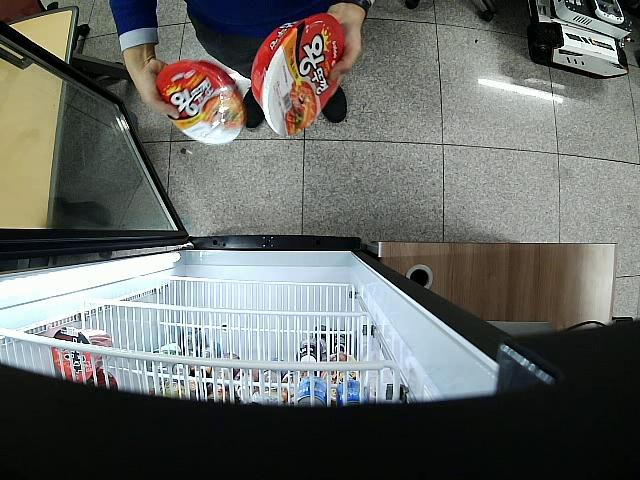00_hand: (124, 57, 183, 119), (328, 7, 367, 81)
10_wangTtukkeong: (251, 14, 345, 138), (155, 60, 245, 145)
